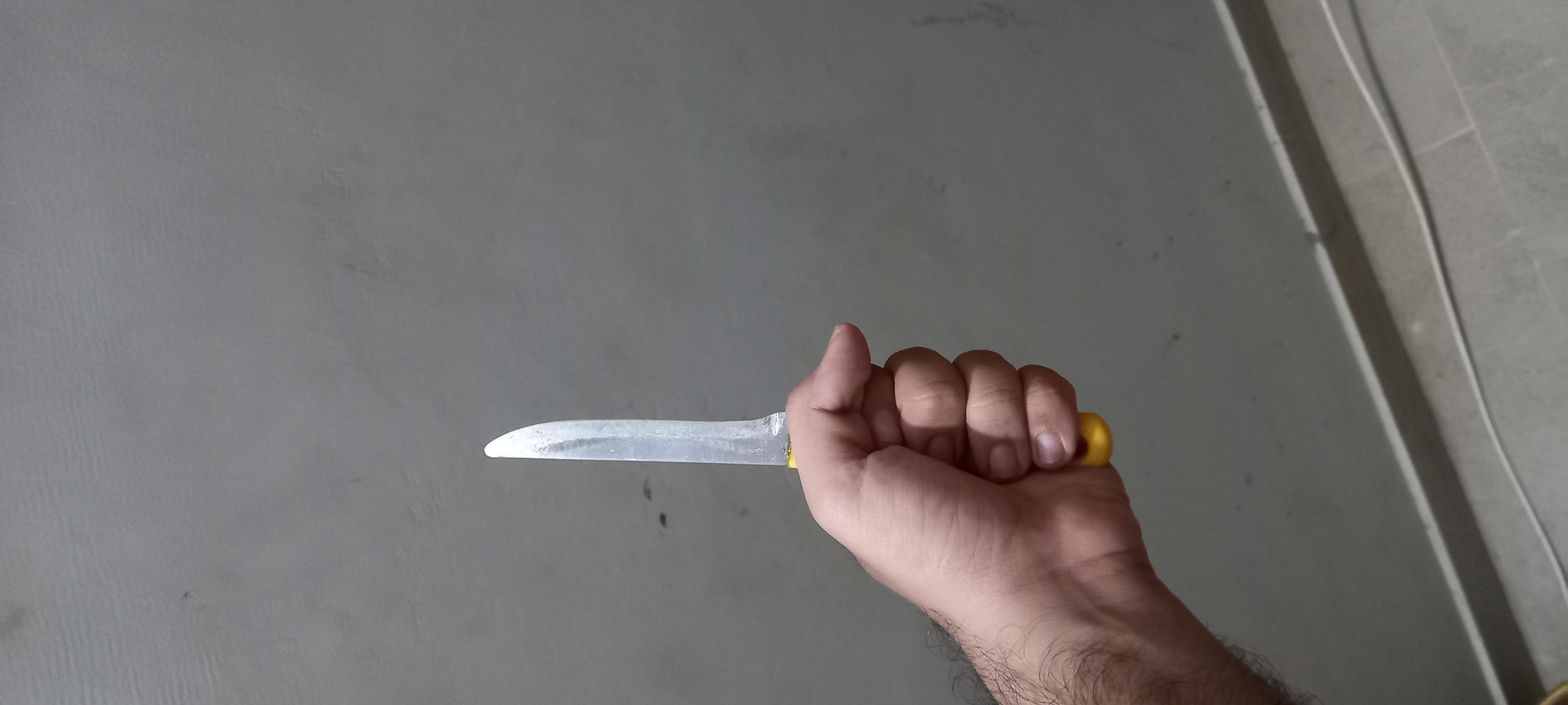knives: (443, 204, 871, 506)
